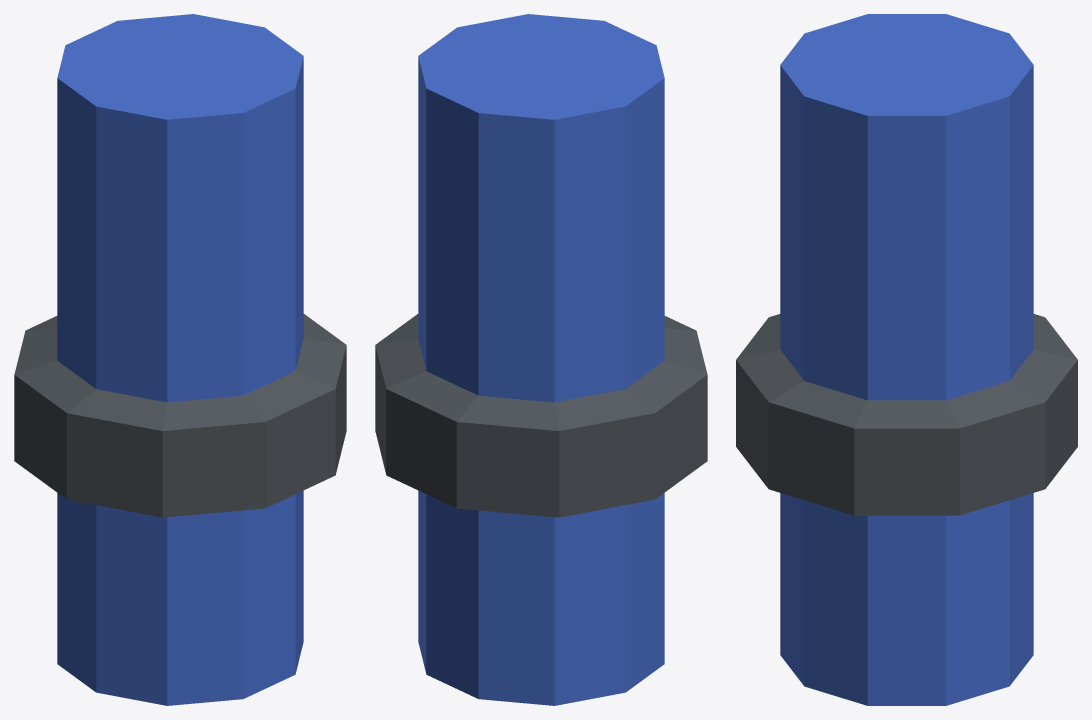
File: Dropship_01_Piping_01_Blue.fbx
3 renders of one model, left to right at view 1: azimuth 30°, elevation 25°; view 2: azimuth 150°, elevation 25°; view 3: azimuth 270°, elevation 25°, orthographic.
Visible parts, largest first — view 1: Dropship_01_Piping_01_Blue; view 2: Dropship_01_Piping_01_Blue; view 3: Dropship_01_Piping_01_Blue.
Part boxes in pixels (bbox=[...]): Dropship_01_Piping_01_Blue: bbox=[14, 14, 346, 705]; Dropship_01_Piping_01_Blue: bbox=[375, 14, 707, 705]; Dropship_01_Piping_01_Blue: bbox=[736, 14, 1077, 705].
Bounding box in the file's own units: 70.5 × 141 × 74.13.
Materials: 1 (1 with a texture image).
